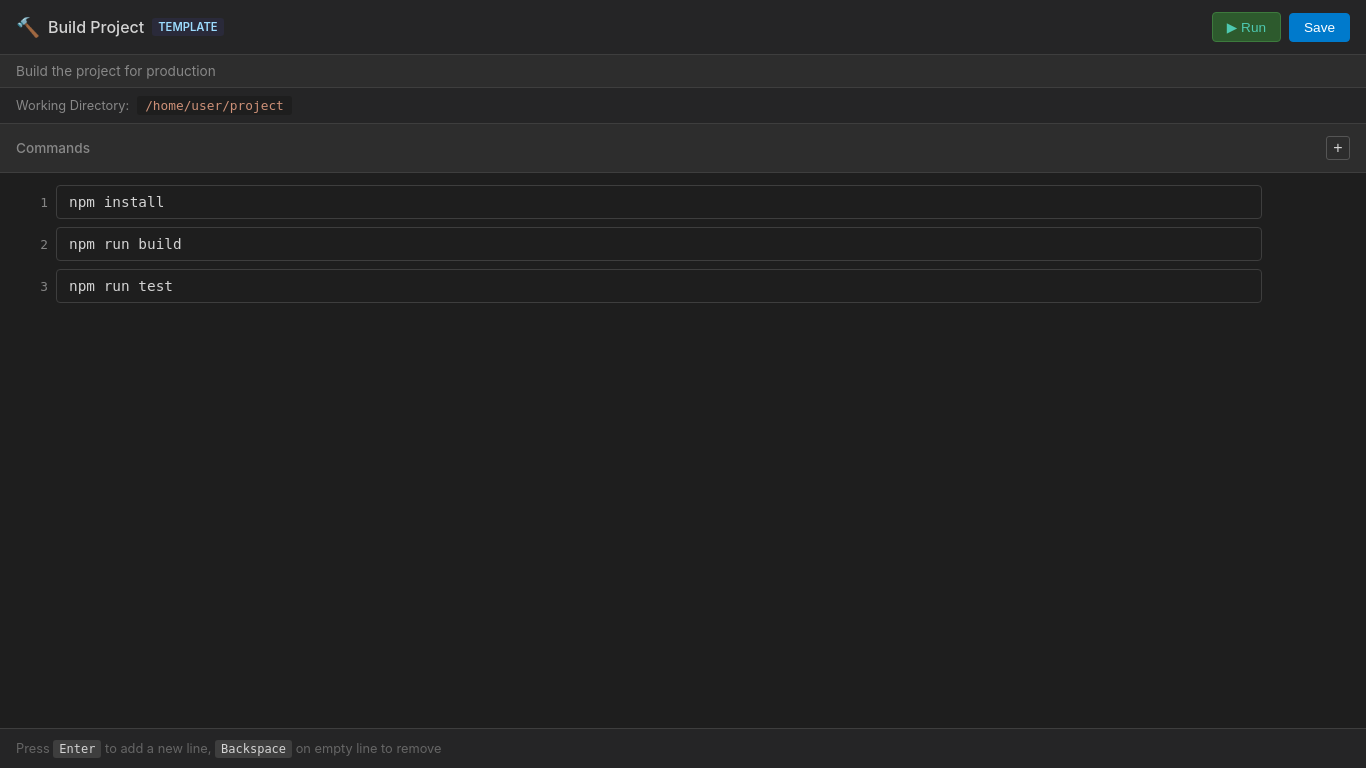
Test: FlowEditor › Save › should show saving status
This screenshot has width=1366, height=768.
Click the button "Save" at (1320, 27), box left=1289, top=12, right=1350, bottom=42
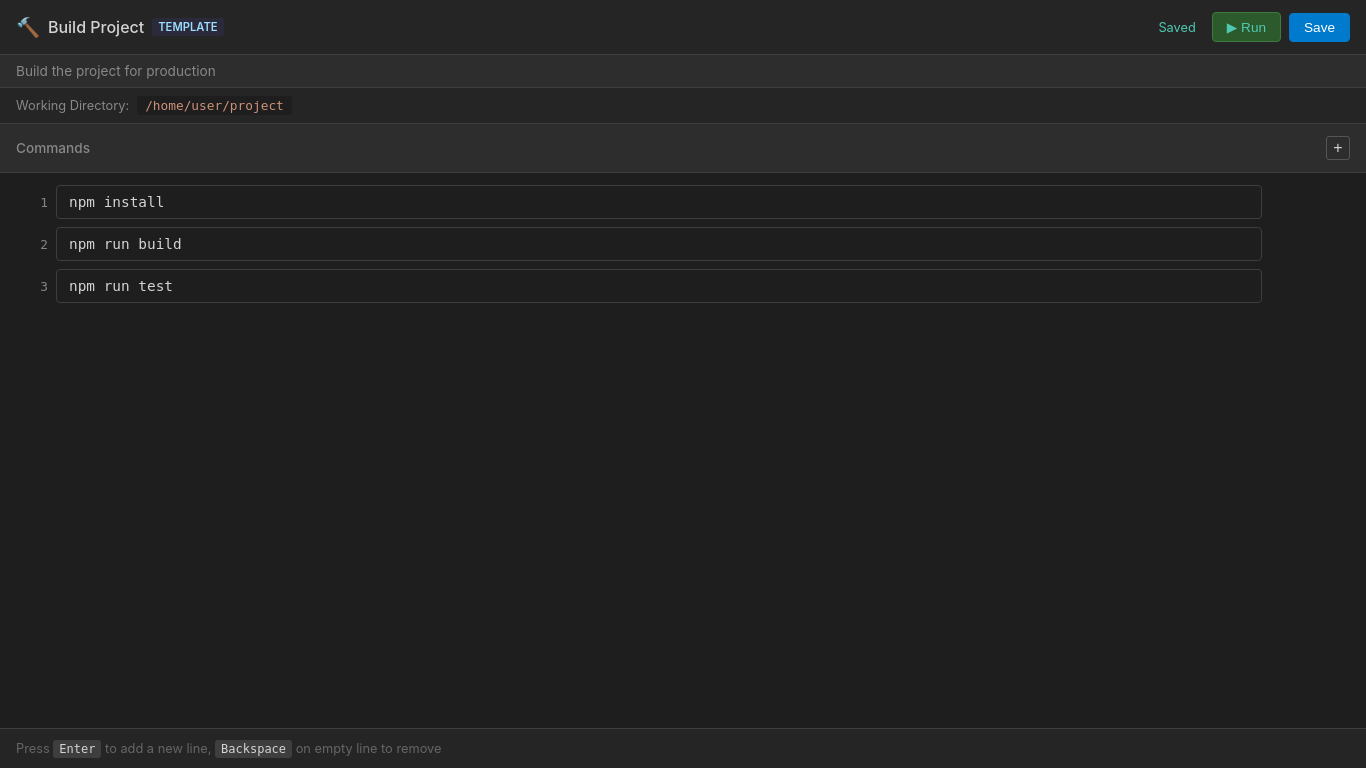
expect the text "Saved" is shown: met, box left=1158, top=20, right=1196, bottom=34
